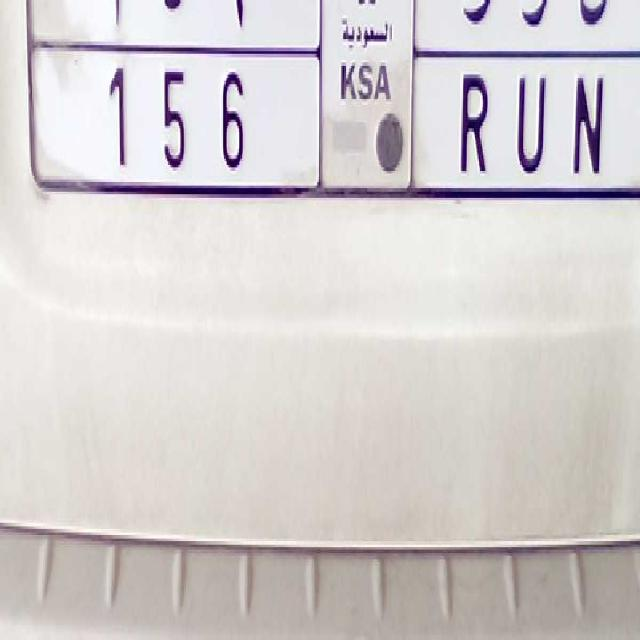license_plate: (60, 41, 630, 189)
